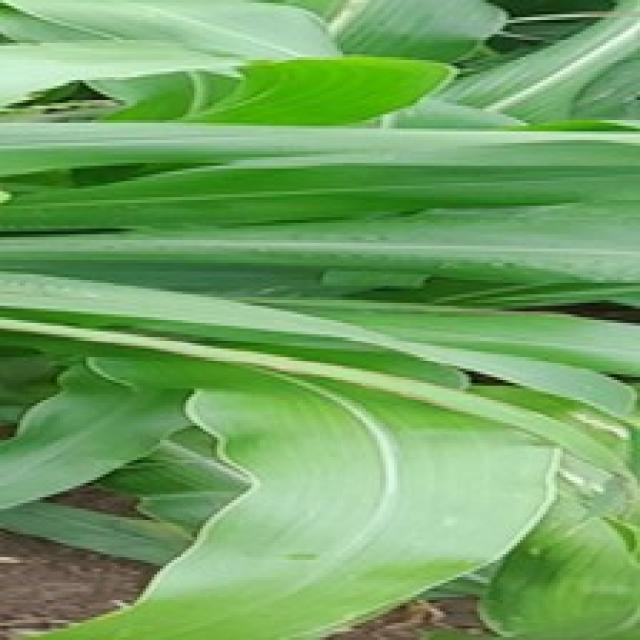Corn: (0, 0, 637, 637), (0, 354, 563, 637)
